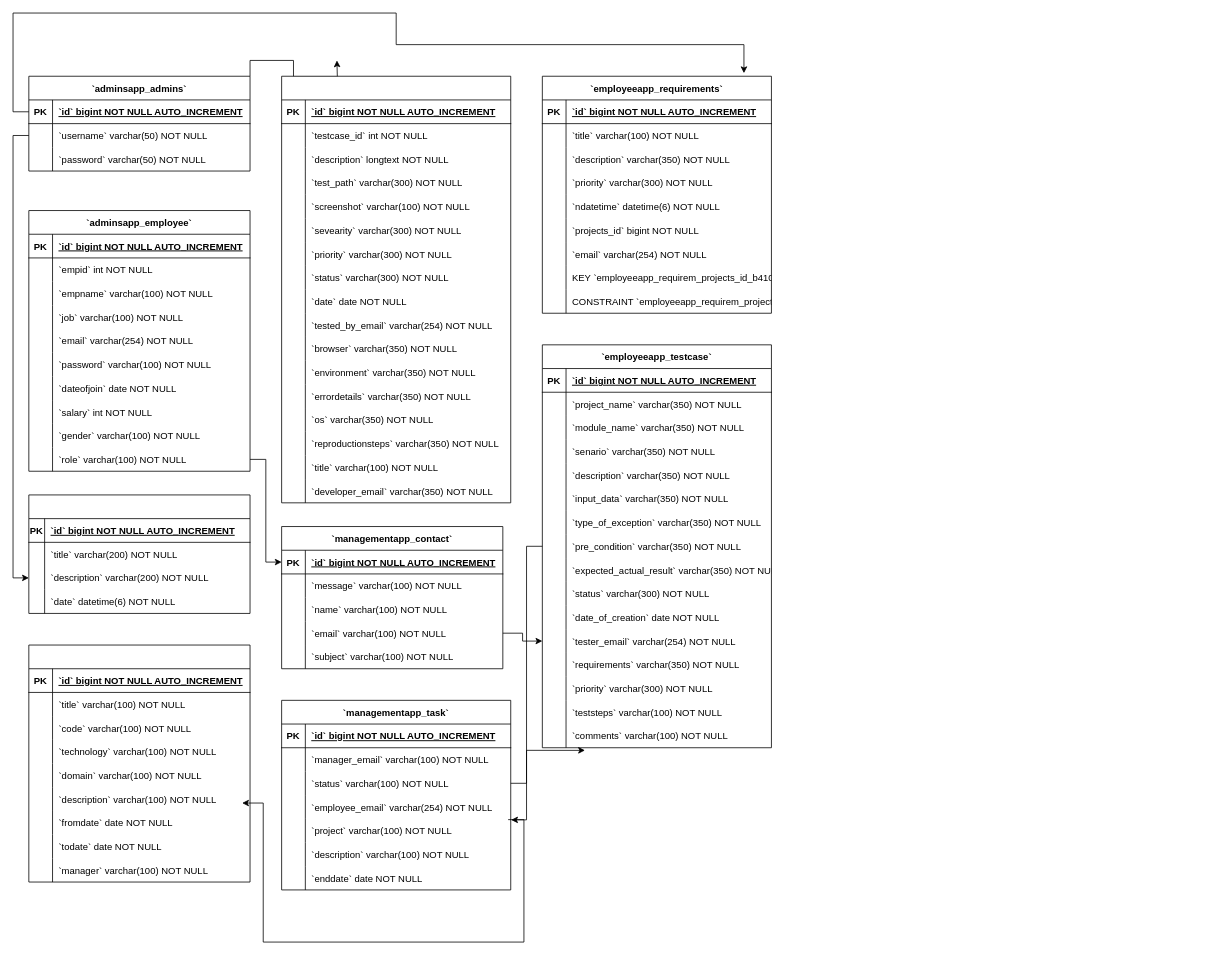
Some shapes in this 1225 by 955 pixel diagram are drawn without their labels. Here are the shapes that lost their labels. From the top down, the box of each, then its label:
(281, 75, 511, 503): `employeeapp_bug`
(28, 494, 250, 613): `adminsapp_news`
(28, 644, 250, 882): `adminsapp_project`
